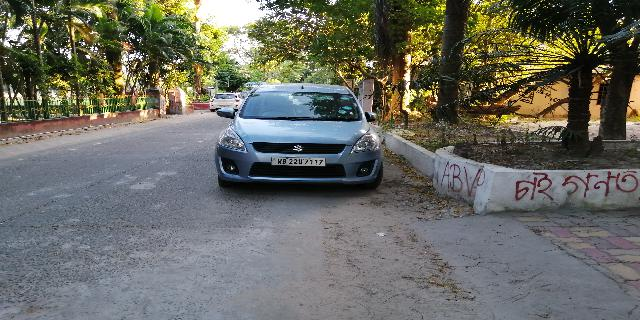Car: (216, 78, 387, 199), (208, 90, 239, 113)
